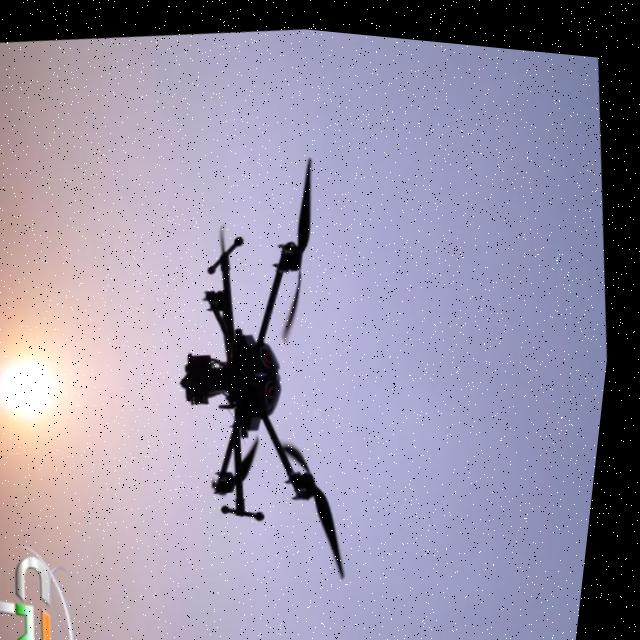drones: (128, 118, 411, 605)
